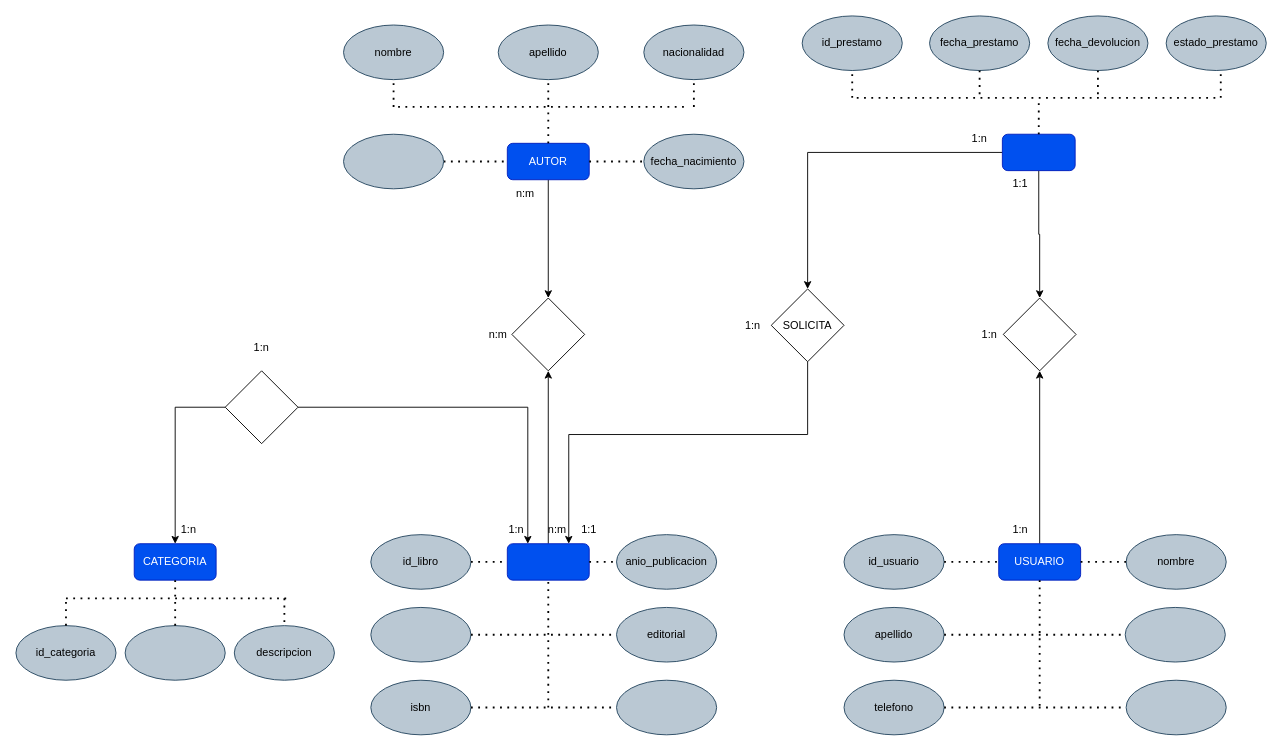
This 1282x751 diagram has some shape labels left out. The shapes that lost their labels are listed below. From the top down, each one's centre as x and y in pixels, then its label:
At (393,161): "id_autor".
At (1038,152): "PRESTAMO".
At (548,334): "TIENE".
At (1039,334): "REALIZA".
At (261,407): "PERTENESE".
At (547,561): "LIBRO".
At (174,652): "nombre_categoria".
At (420,634): "titulo".
At (1174,634): "correo_electronico".
At (666,707): "cantidad disponible".
At (1175,707): "fecha_registro".
